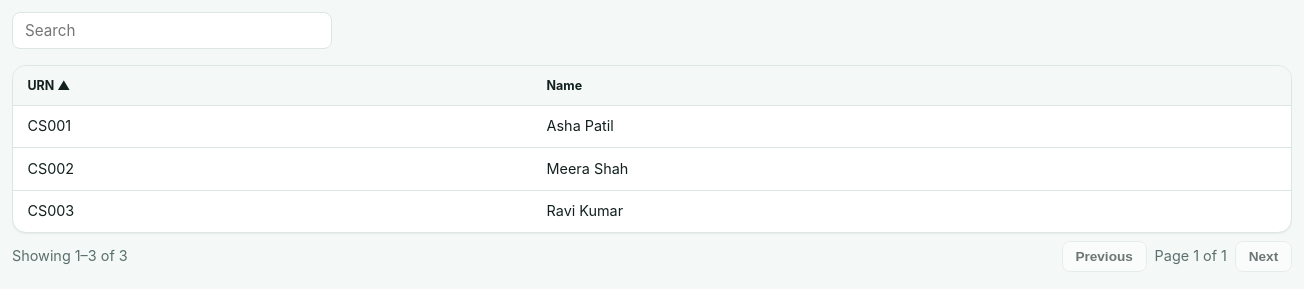
Test: DataTable › explains when nothing matches or there are no rows
In the search field: (172, 30) [12, 12, 332, 49], type "zzz"
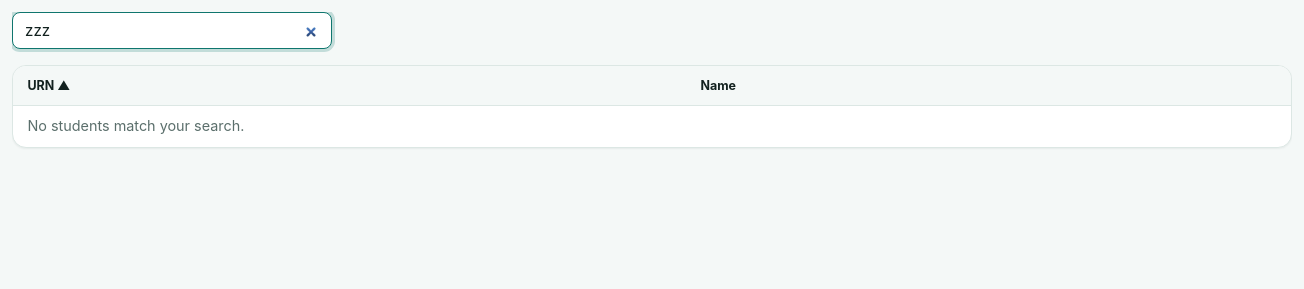
Expected: the text "No students match your search." is shown, [13, 105, 1291, 147]
